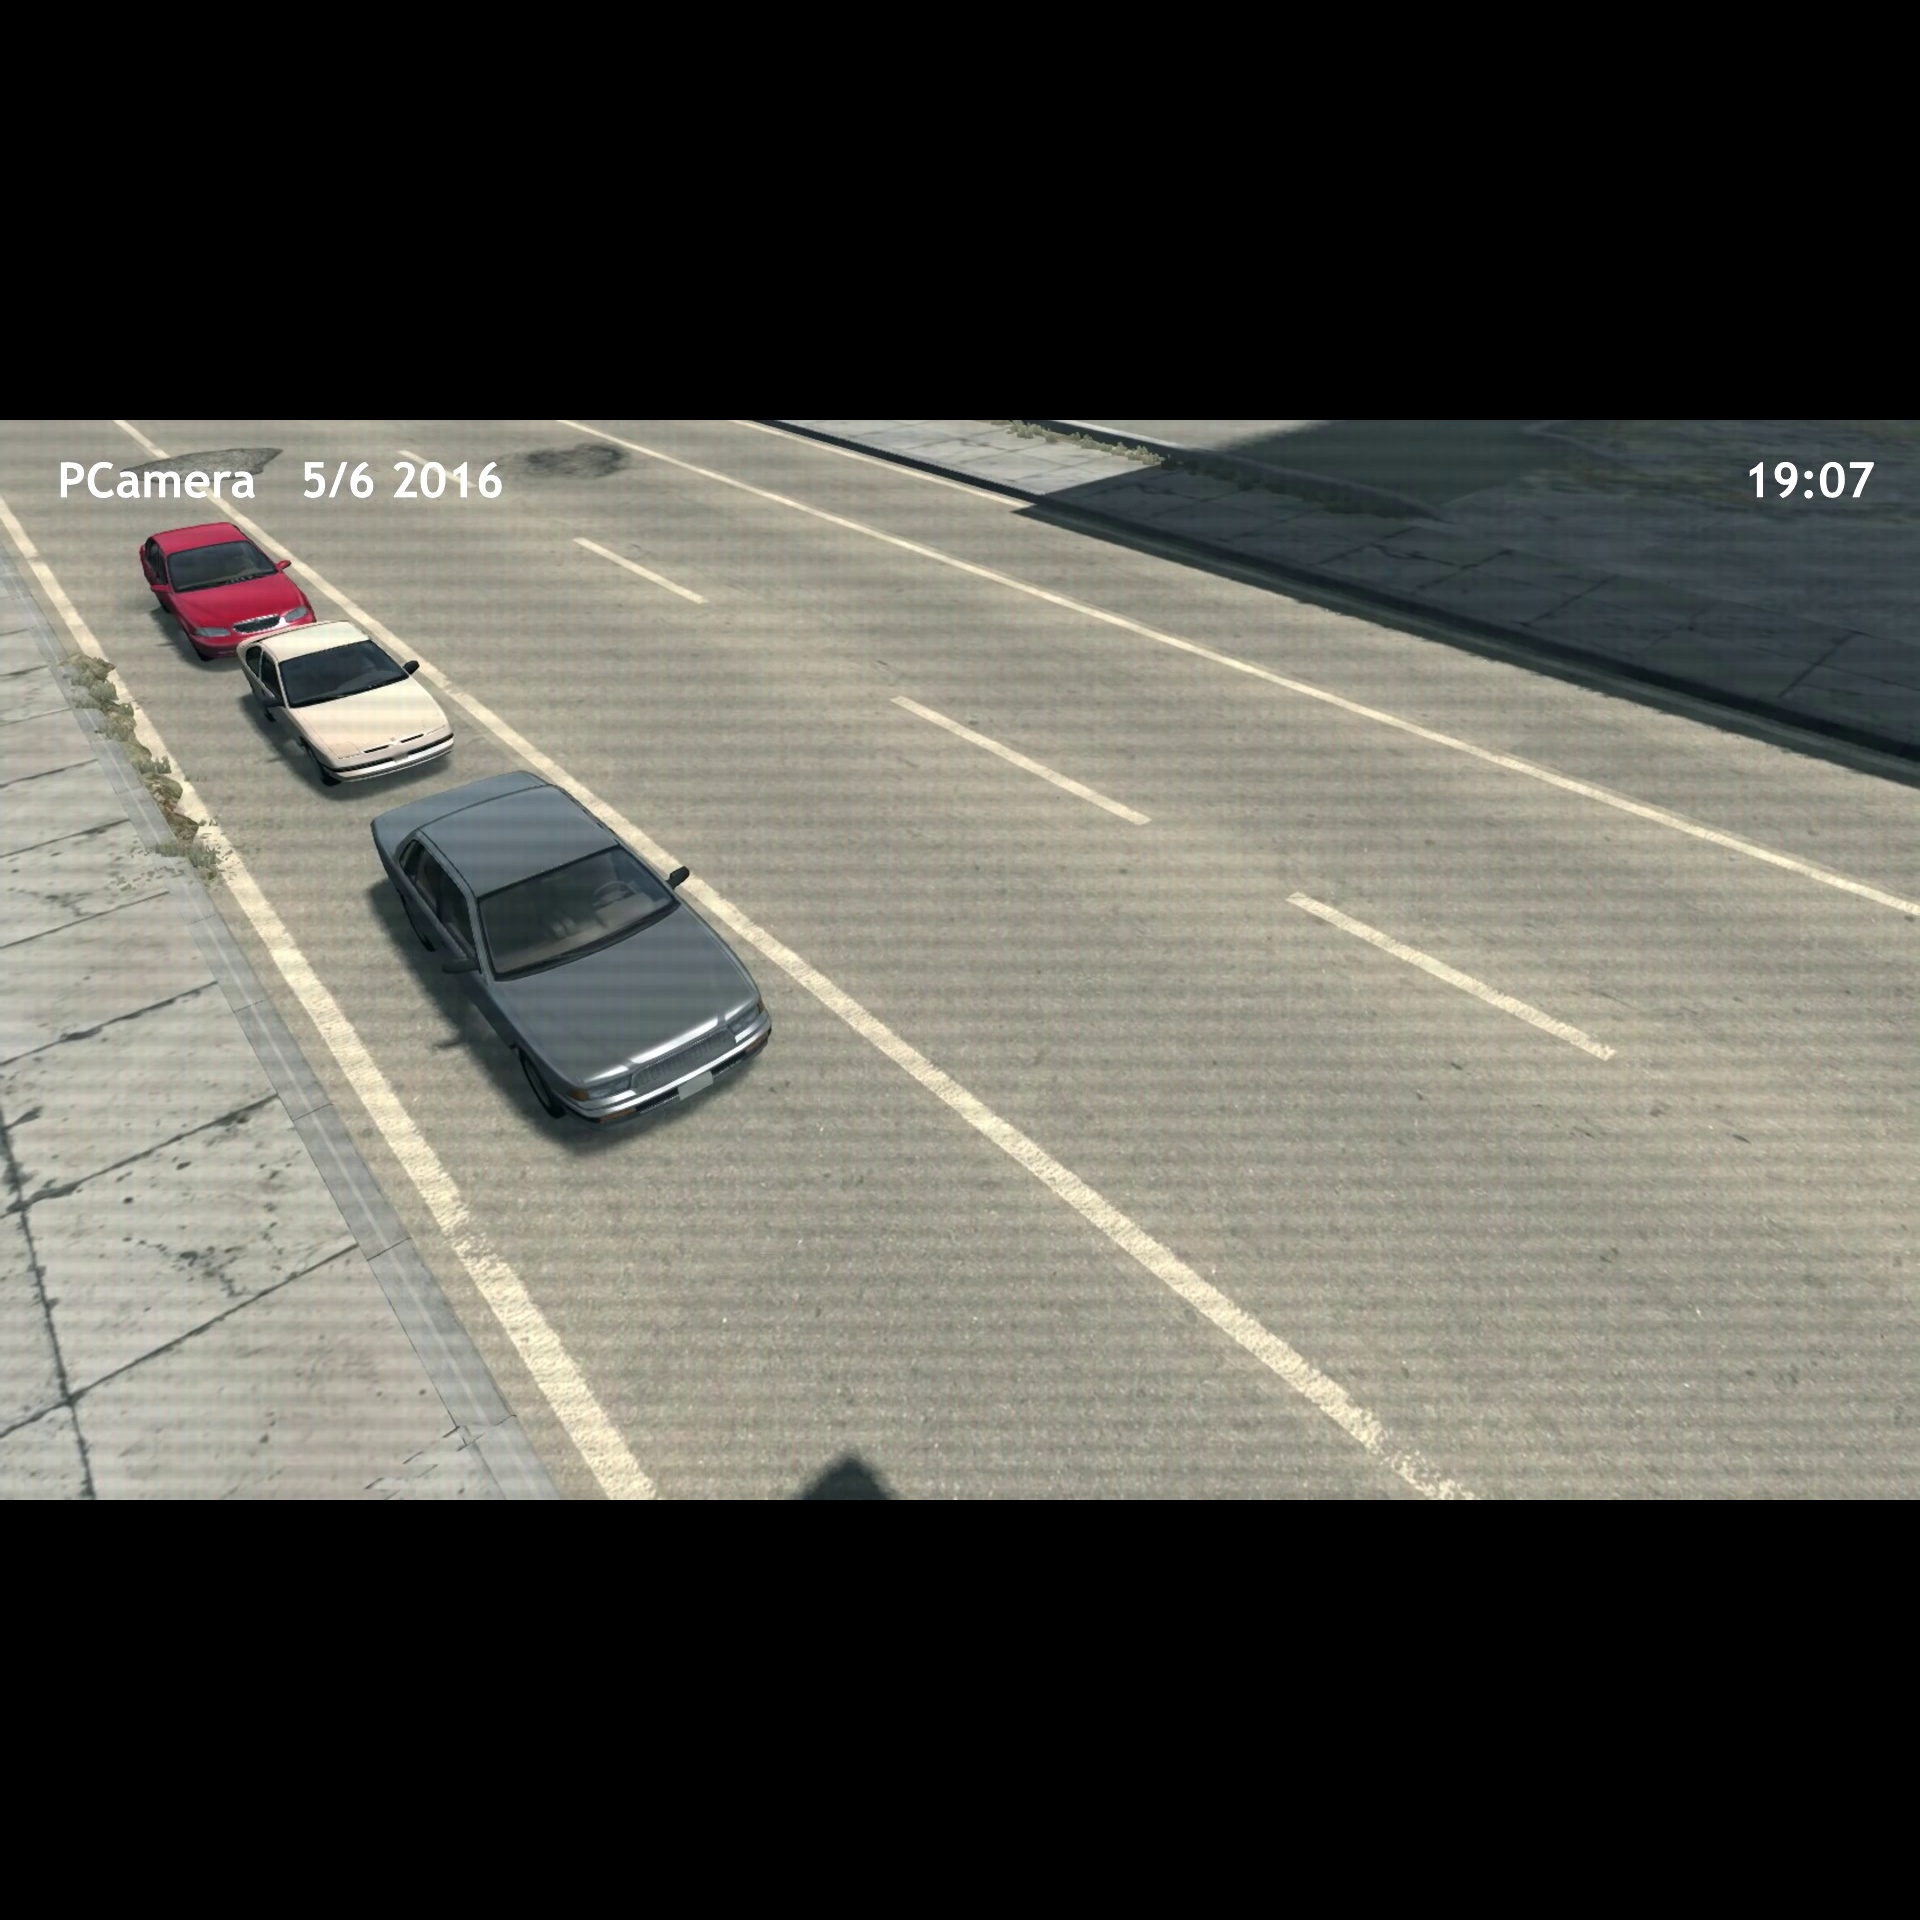vehicle: (360, 765, 788, 1146), (230, 617, 461, 804), (132, 517, 316, 659)
